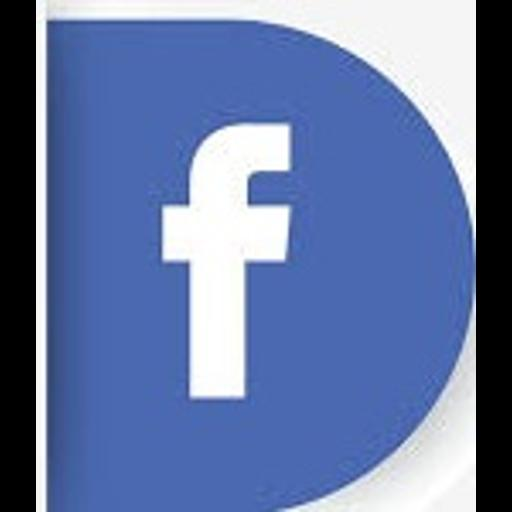Facebook: (36, 0, 476, 512)
